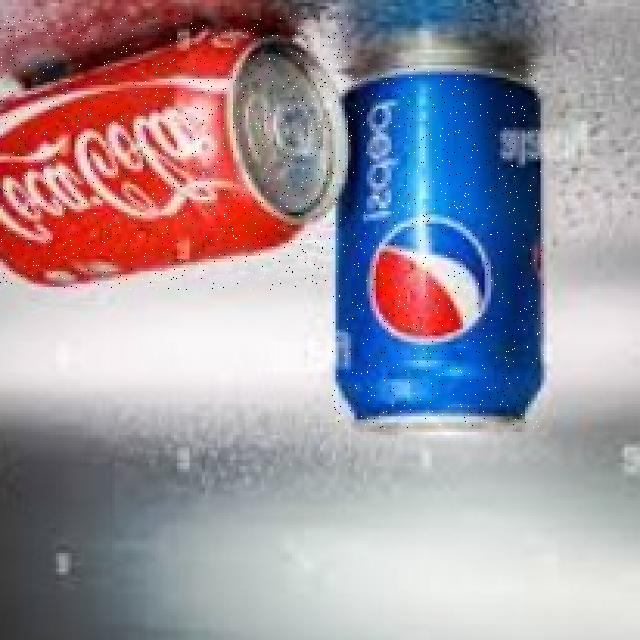metal: (0, 13, 351, 289), (332, 65, 544, 429)
